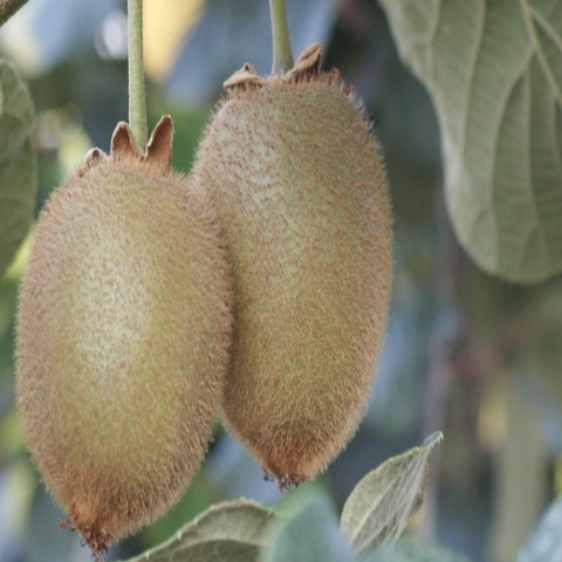kiwi: (176, 57, 414, 484), (16, 106, 235, 556)
